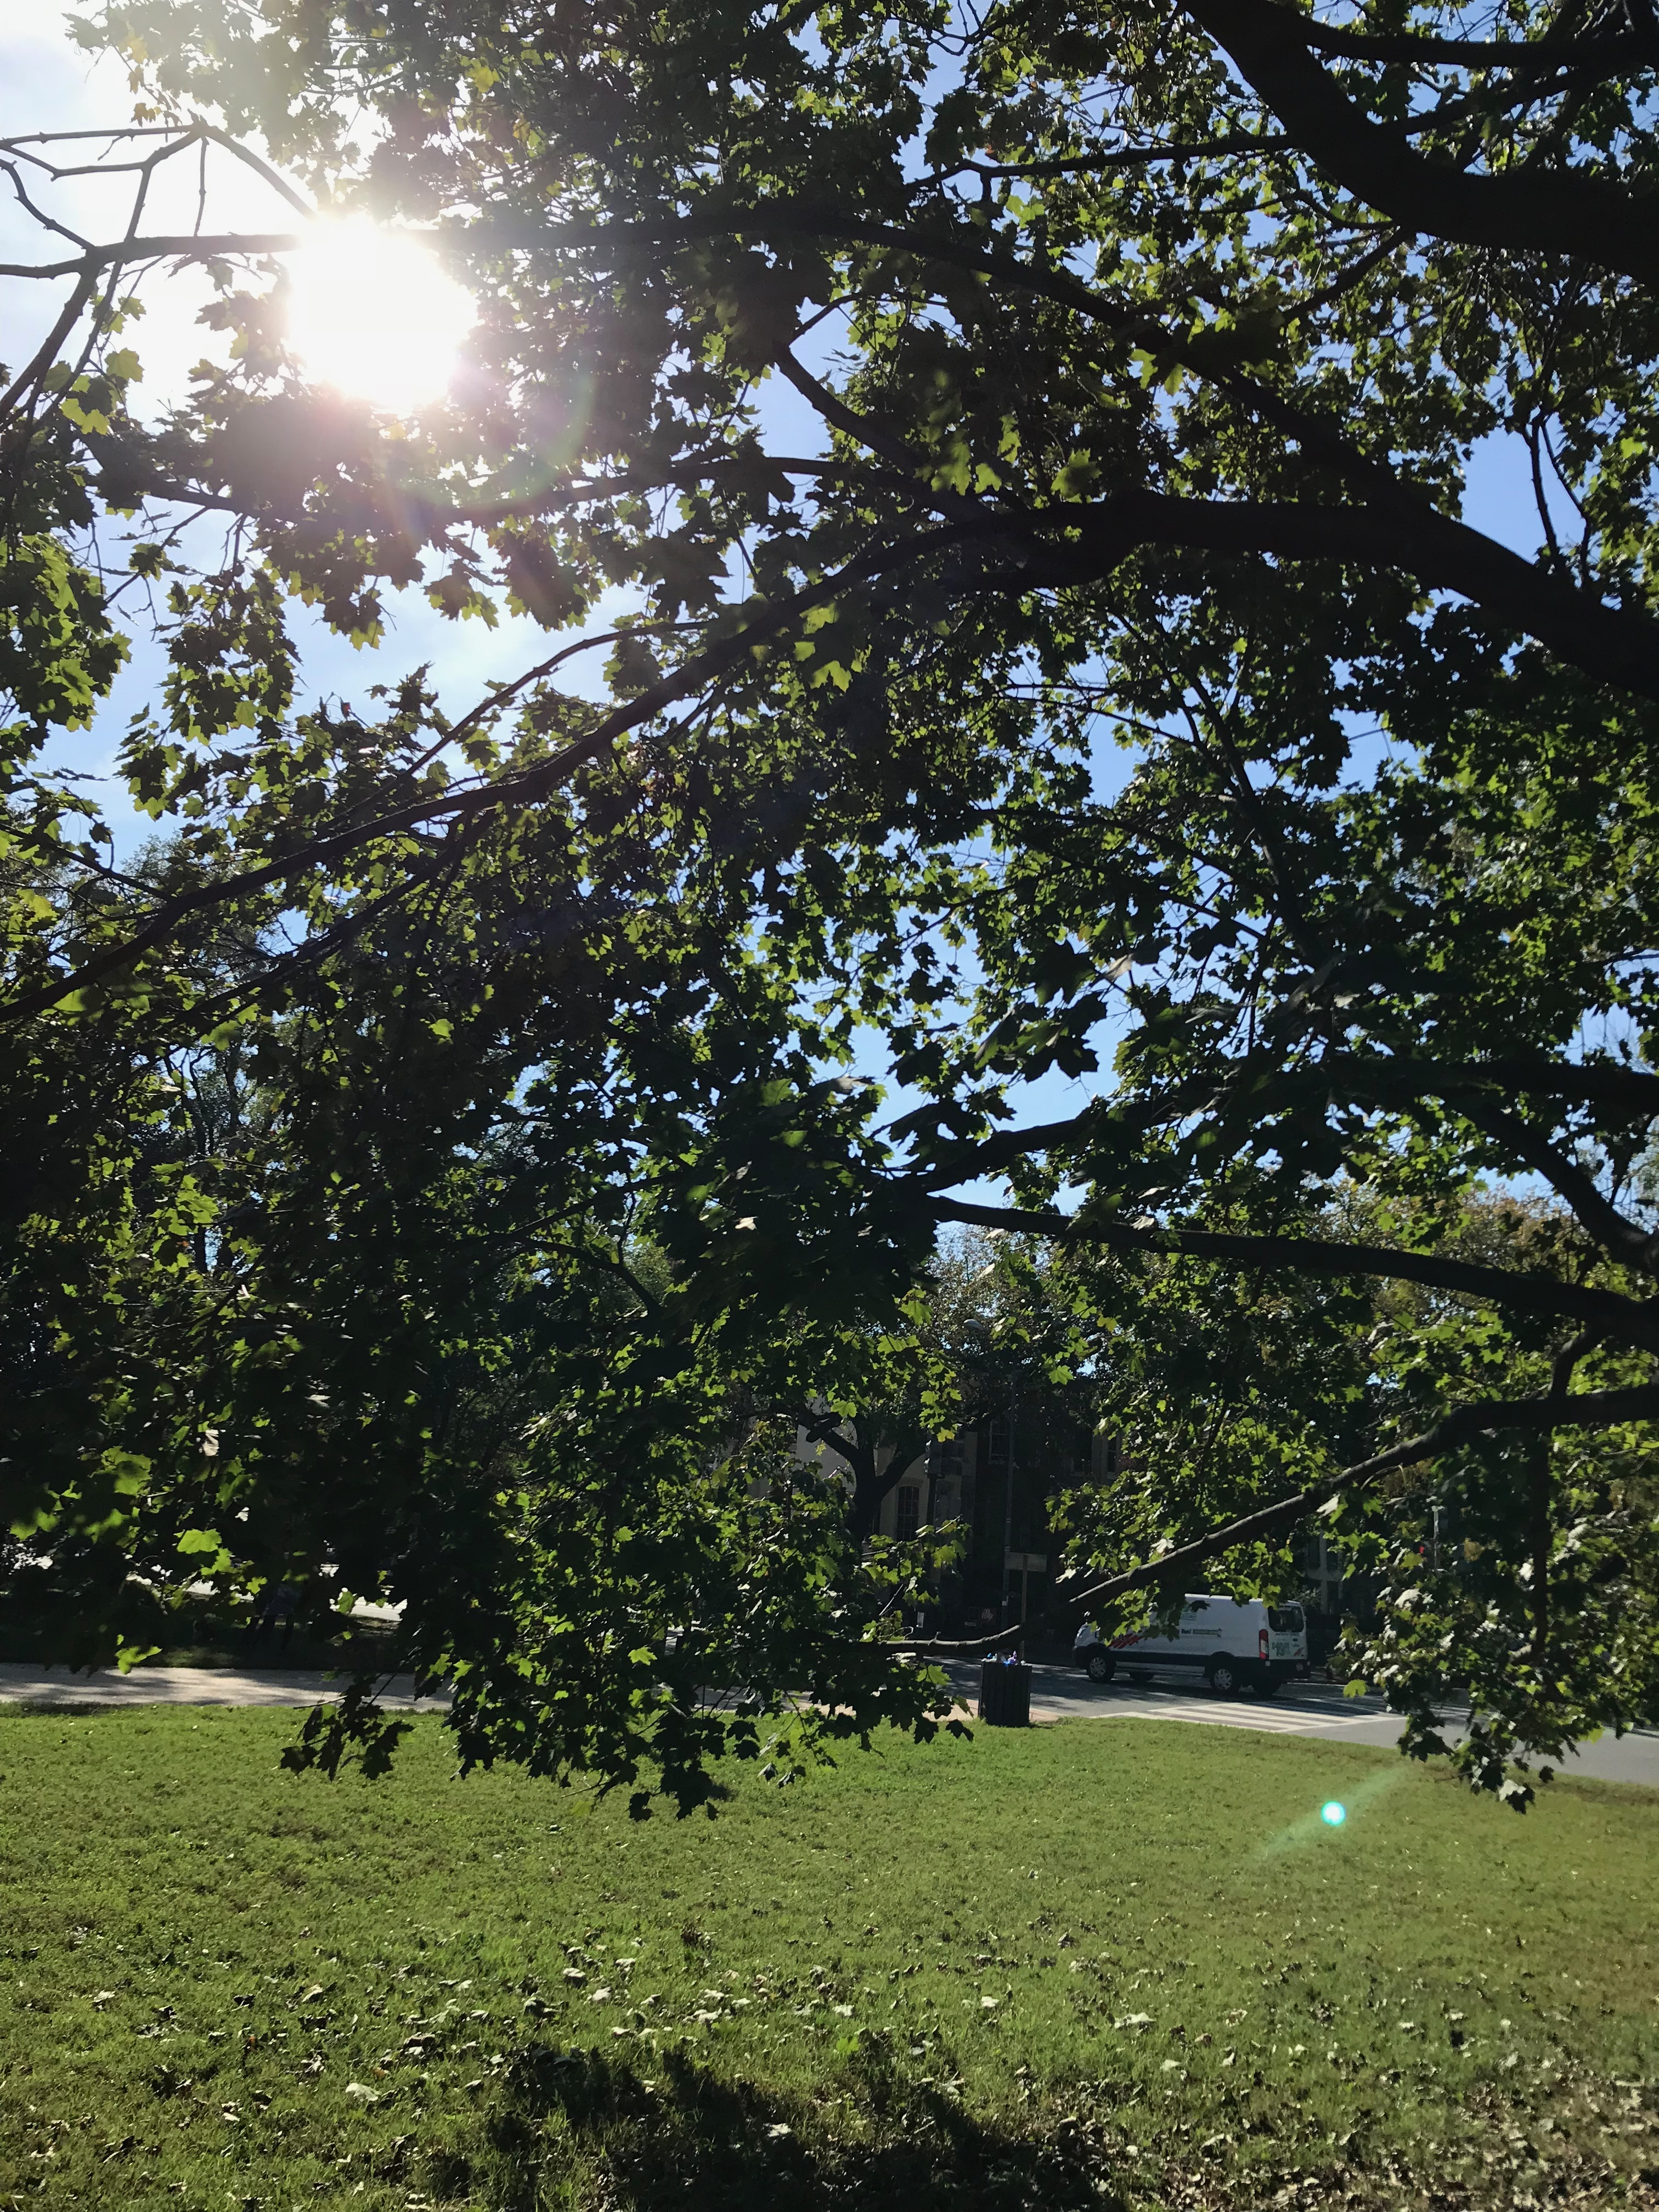flare: (1321, 1801, 1347, 1827)
